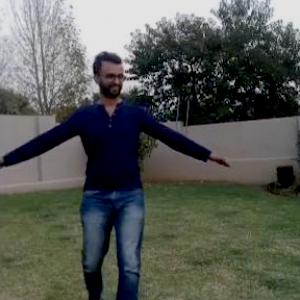land: (0, 34, 242, 299)
